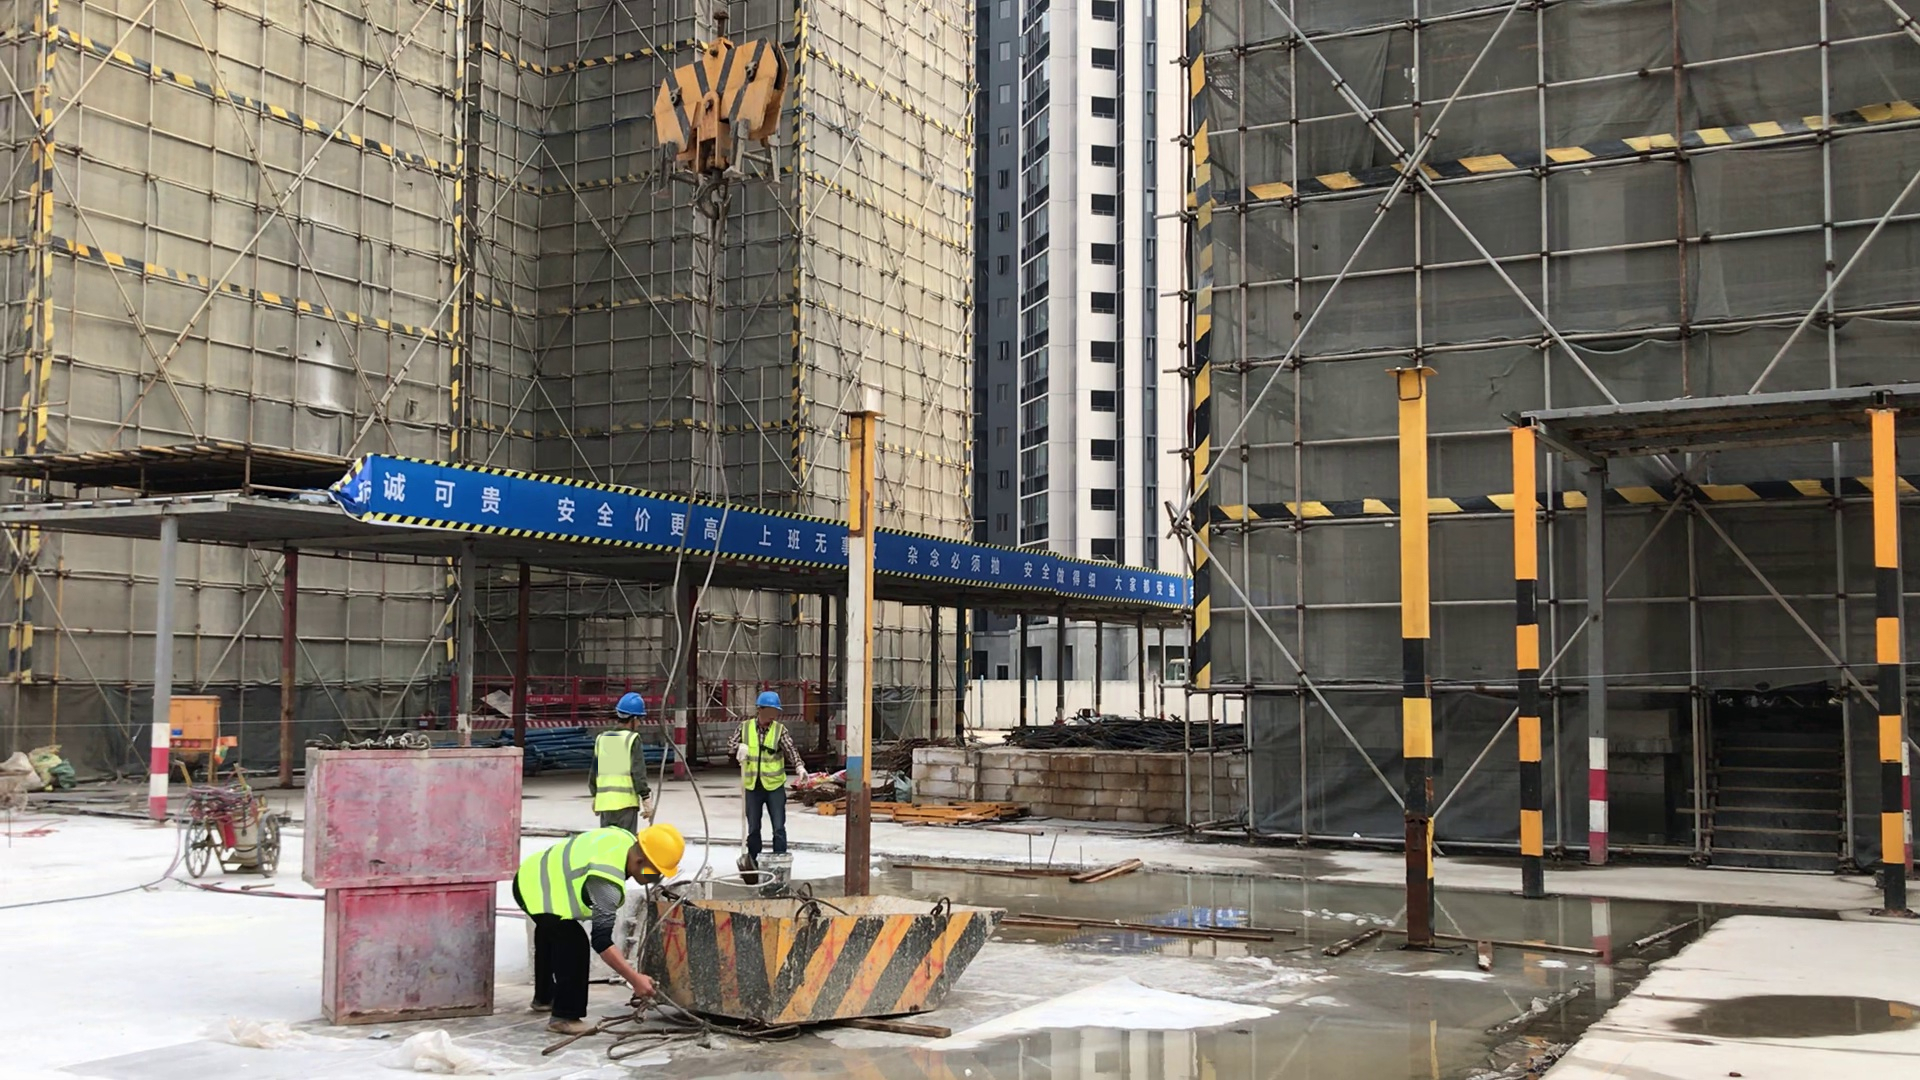ebox: (176, 691, 228, 791)
fence: (531, 677, 611, 727), (699, 681, 748, 722)
handcart: (176, 760, 287, 882)
helmet: (640, 824, 688, 882), (614, 687, 647, 723), (752, 691, 788, 717)
hook: (654, 27, 782, 222)
hopper: (655, 882, 1006, 1030), (2, 765, 36, 824)
person: (508, 822, 680, 1041), (729, 690, 810, 858), (582, 689, 660, 831)
slogan: (370, 454, 845, 571), (877, 531, 1197, 622)
vest: (516, 820, 631, 923), (592, 730, 645, 815), (740, 718, 789, 792)
